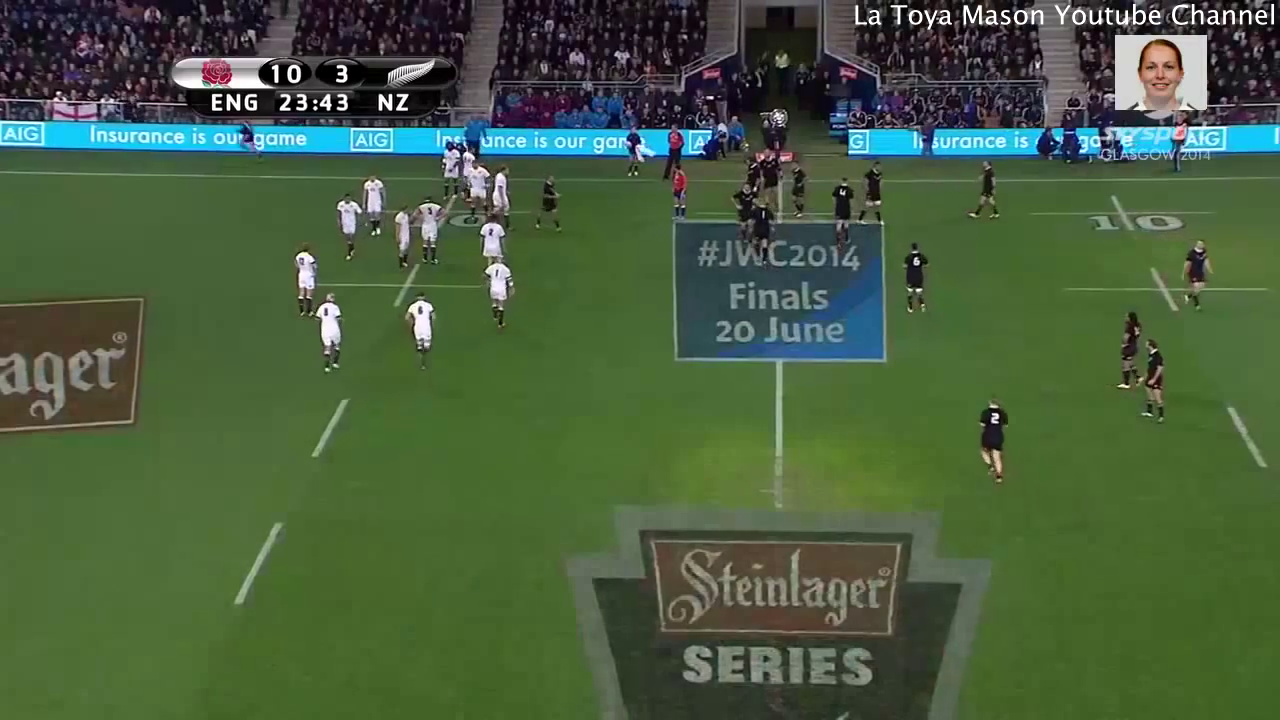10_metre: (1054, 259, 1271, 323), (1023, 192, 1227, 242)
player: (892, 234, 940, 331), (968, 391, 1012, 492), (1132, 334, 1175, 431), (397, 288, 442, 379), (406, 191, 455, 273), (477, 252, 520, 338), (1174, 230, 1214, 322), (310, 290, 352, 374), (963, 152, 1008, 229), (1115, 300, 1148, 400), (820, 175, 863, 250), (853, 150, 889, 231), (290, 240, 325, 321), (530, 170, 566, 236), (781, 155, 816, 222), (332, 189, 363, 264), (471, 211, 511, 268), (489, 156, 516, 238), (357, 170, 387, 243), (745, 195, 774, 268), (390, 199, 417, 274), (462, 154, 492, 221), (663, 163, 693, 228), (729, 181, 758, 242), (436, 138, 461, 202), (759, 149, 781, 214), (739, 155, 766, 203), (460, 140, 477, 190)
